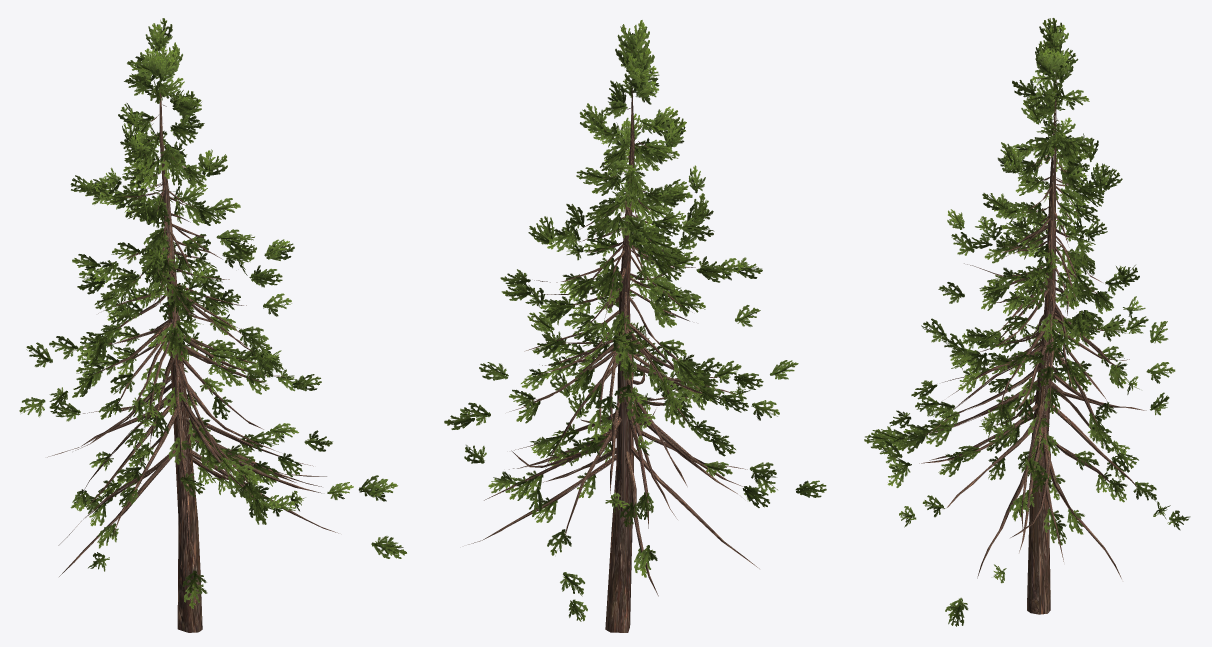
File: tree__v05.glb
3 views of the same model, side by side, from view 1: azimuth 30°, elevation 25°; view 2: azimuth 150°, elevation 25°; view 3: azimuth 270°, elevation 25° (orthographic). The views are drawn at different scales.
Visible parts, largest first — view 1: Tree; view 2: Tree; view 3: Tree.
Boxes of the visible parts, x1,y1,x2,y2 form: Tree: [19, 18, 406, 632]; Tree: [444, 20, 826, 632]; Tree: [864, 18, 1190, 626].
Bounding box in the file's own units: 39.28 × 68.18 × 36.1.
2 materials, 2 textured.
